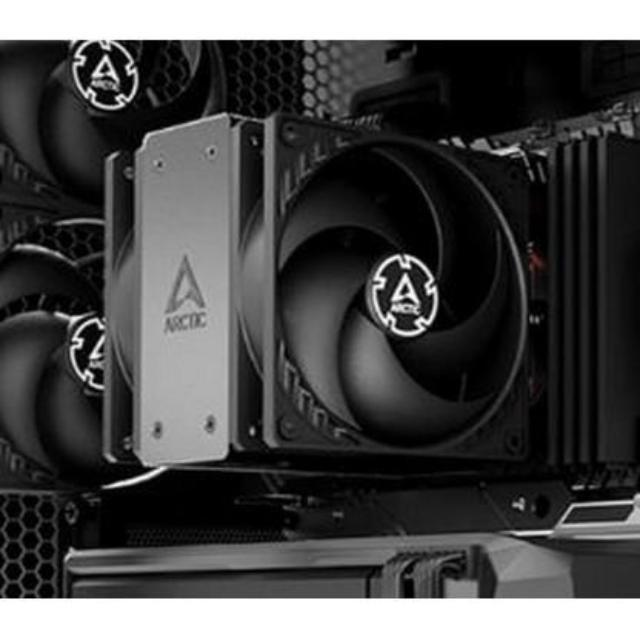CPU_Fan: (107, 117, 533, 472)
